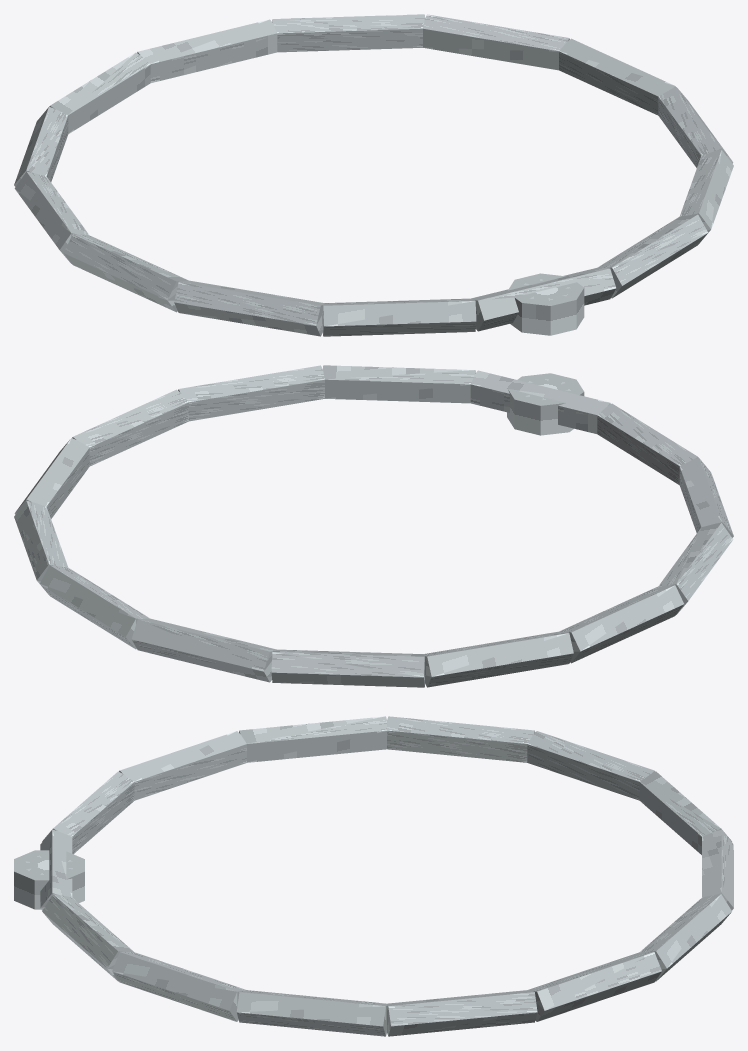
Rendered from silver_necklace.glb.
3 views of the same model, one above another, from view 1: azimuth 30°, elevation 25°; view 2: azimuth 150°, elevation 25°; view 3: azimuth 270°, elevation 25° (orthographic).
Visible parts, largest first — view 1: block_necklace chain4, block_necklace chain5, block_necklace chain11, block_necklace chain12, block_necklace chain10, block_necklace chain6, block_necklace chain13, block_necklace chain2, block_clasp, block_necklace chain9, block_necklace chain3, block_necklace chain7 (+3 smaller); view 2: block_necklace chain9, block_necklace chain8, block_necklace chain2, block_necklace chain10, block_necklace chain1, block_necklace chain7, block_necklace chain0, block_necklace chain11, block_necklace chain4, block_necklace chain3, block_clasp, block_necklace chain6 (+3 smaller); view 3: block_necklace chain13, block_necklace chain0, block_necklace chain7, block_necklace chain6, block_necklace chain12, block_necklace chain1, block_necklace chain8, block_necklace chain5, block_necklace chain2, block_necklace chain11, block_necklace chain9, block_necklace chain4 (+3 smaller).
Boxes of the visible parts, bbox=[...] form: block_necklace chain4: bbox=[323, 298, 476, 336]; block_necklace chain5: bbox=[174, 280, 324, 336]; block_necklace chain11: bbox=[272, 14, 424, 52]; block_necklace chain12: bbox=[423, 14, 569, 70]; block_necklace chain10: bbox=[137, 19, 277, 82]; block_necklace chain6: bbox=[64, 234, 188, 312]; block_necklace chain13: bbox=[559, 38, 675, 115]; block_necklace chain2: bbox=[598, 214, 708, 298]; block_clasp: bbox=[508, 273, 584, 335]; block_necklace chain9: bbox=[49, 52, 150, 133]; block_necklace chain3: bbox=[471, 267, 616, 331]; block_necklace chain7: bbox=[14, 171, 89, 263]; block_necklace chain9: bbox=[271, 649, 424, 687]; block_necklace chain8: bbox=[423, 631, 573, 687]; block_necklace chain2: bbox=[323, 365, 475, 403]; block_necklace chain10: bbox=[131, 618, 276, 682]; block_necklace chain1: bbox=[178, 365, 324, 421]; block_necklace chain7: bbox=[559, 585, 683, 663]; block_necklace chain0: bbox=[72, 389, 188, 466]; block_necklace chain11: bbox=[39, 565, 149, 649]; block_necklace chain4: bbox=[597, 403, 698, 484]; block_necklace chain3: bbox=[470, 370, 610, 433]; block_clasp: bbox=[507, 373, 584, 435]; block_necklace chain6: bbox=[658, 522, 733, 614]; block_necklace chain13: bbox=[387, 990, 537, 1036]; block_necklace chain0: bbox=[236, 990, 386, 1036]; block_necklace chain7: bbox=[387, 716, 535, 762]; block_necklace chain6: bbox=[239, 716, 386, 762]; block_necklace chain12: bbox=[528, 952, 661, 1021]; block_necklace chain1: bbox=[112, 952, 246, 1021]; block_necklace chain8: bbox=[527, 731, 654, 800]; block_necklace chain5: bbox=[119, 731, 246, 800]; block_necklace chain2: bbox=[42, 894, 134, 981]; block_necklace chain11: bbox=[640, 894, 731, 981]; block_necklace chain9: bbox=[639, 771, 731, 854]; block_necklace chain4: bbox=[42, 771, 134, 854].
Bounding box in the file's own units: 0.0994 × 0.00515 × 0.1009.
Materials: 1 (1 with a texture image).
